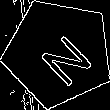N_NW: (26, 21, 91, 85)
